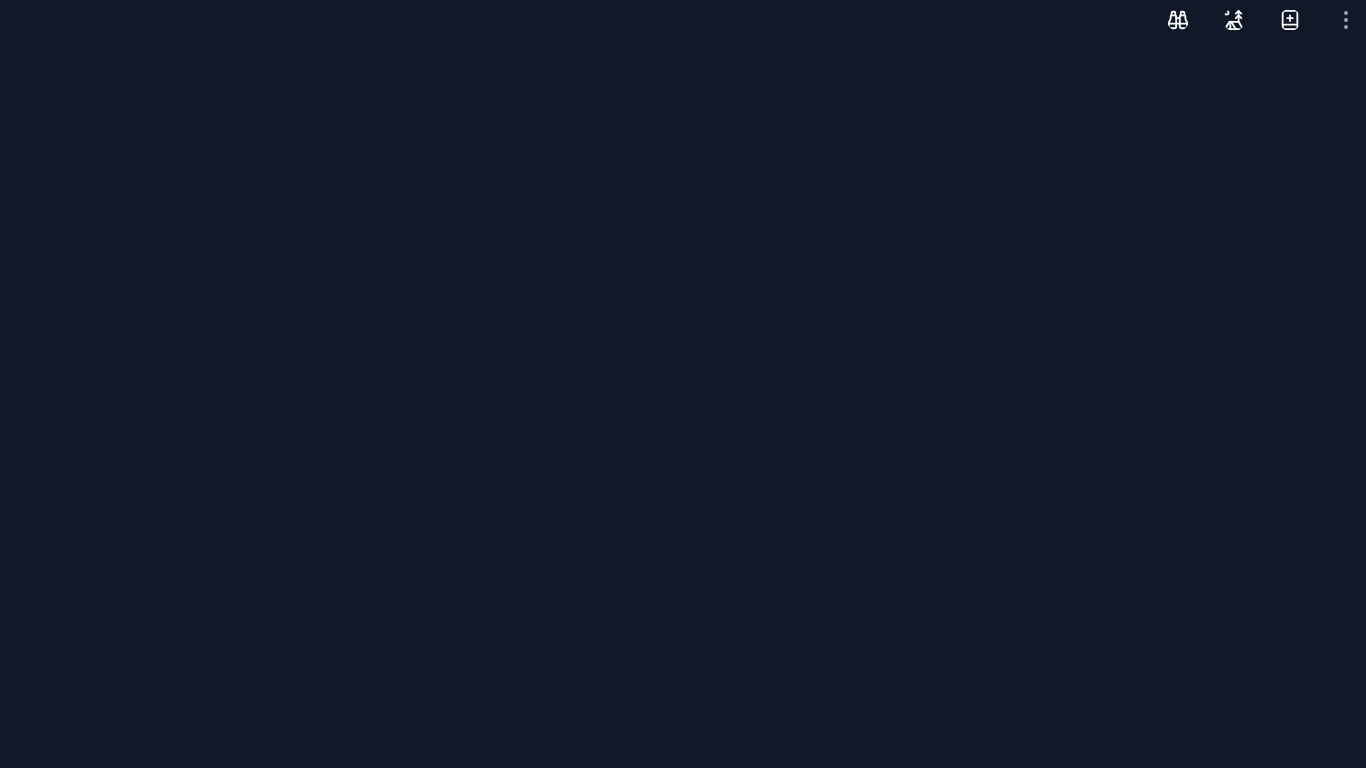
Test case: components/character/character-actions-menu › should not offer Sending Stone while sending is off
The image size is (1366, 768).
Click the icon with class "lucide-ellipsis-vertical".
click(1346, 20)  # box [1326, 0, 1365, 40]
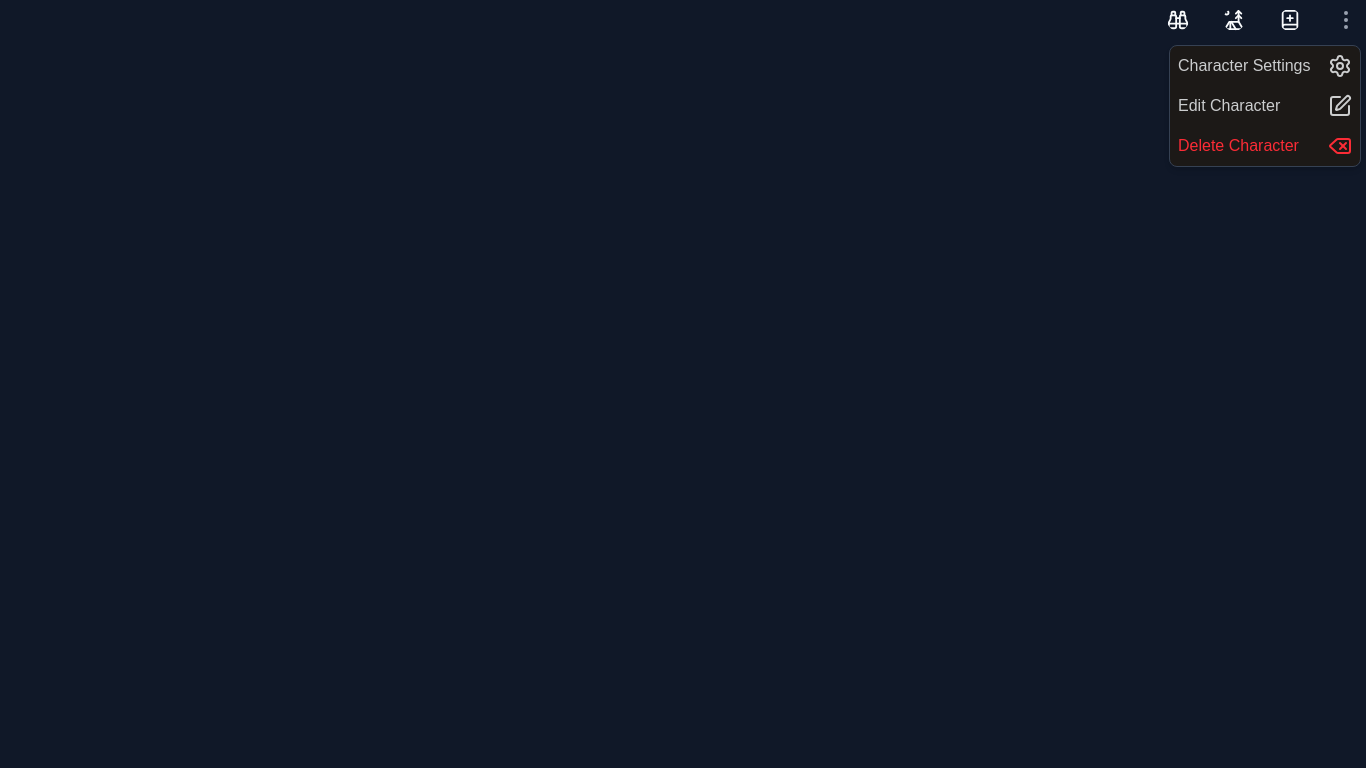
Click the button "Character Settings".
click(1265, 66)  # box [1170, 46, 1360, 86]
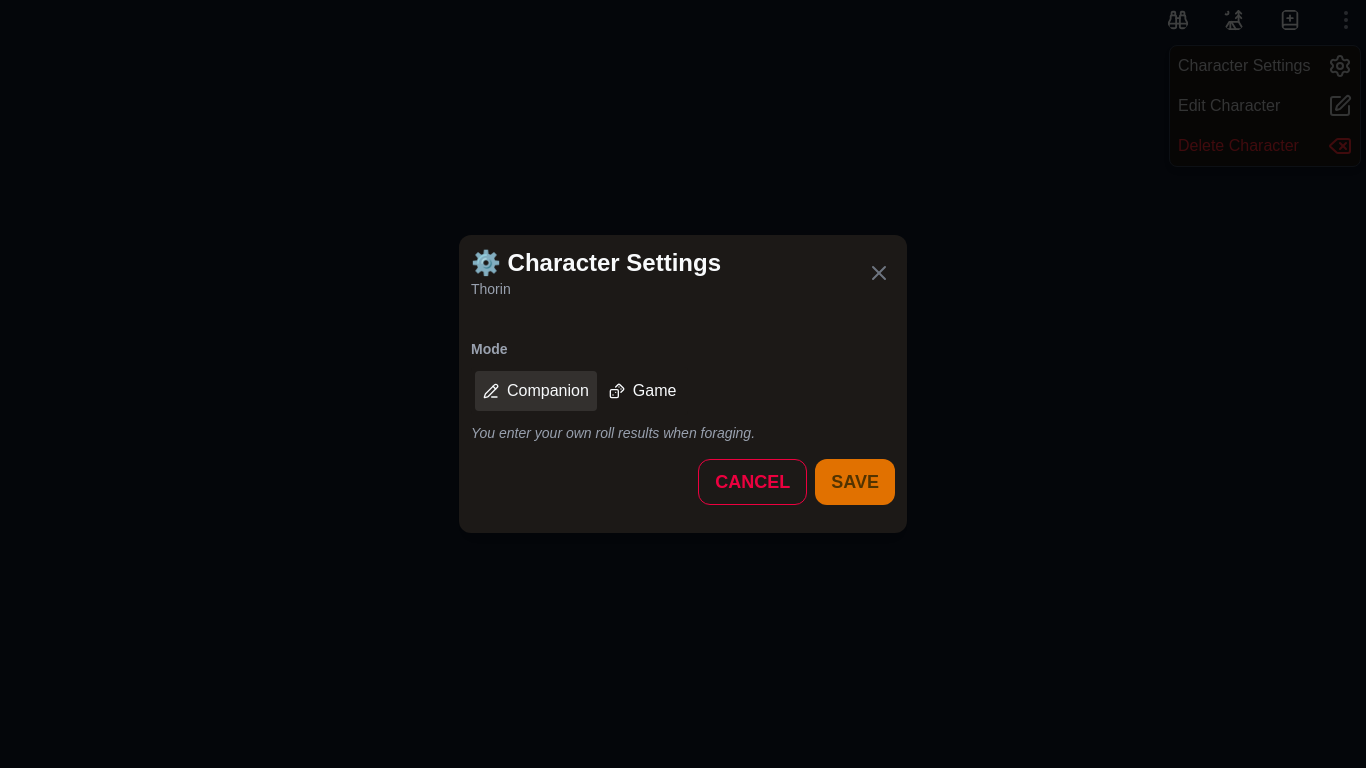
expect the text "⚙️ Character Settings" is shown: met, box [471, 247, 721, 279]
